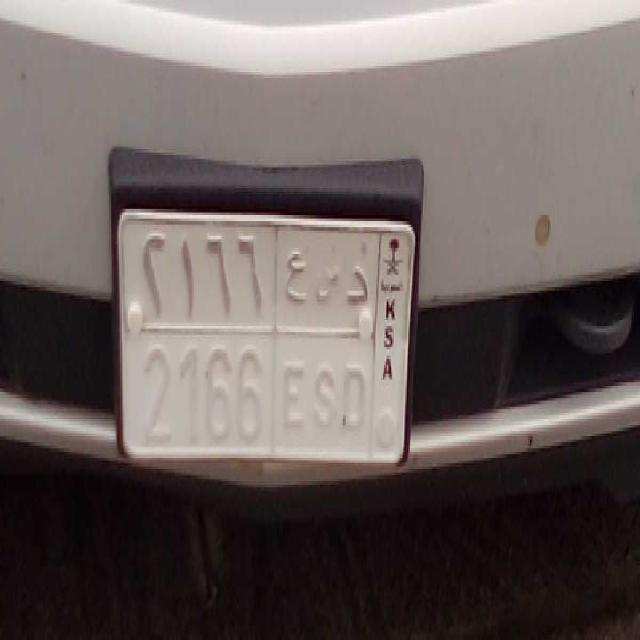license_plate: (125, 326, 375, 468)
